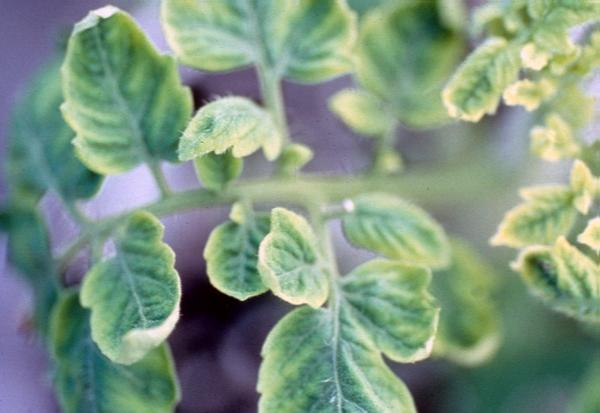Tomato leaf yellow virus: (53, 0, 199, 172), (254, 309, 445, 413), (162, 0, 359, 84), (82, 209, 187, 360), (333, 255, 452, 380), (332, 190, 481, 267), (441, 21, 539, 133), (193, 189, 281, 301), (255, 204, 344, 305), (177, 95, 288, 174), (490, 178, 594, 253)
